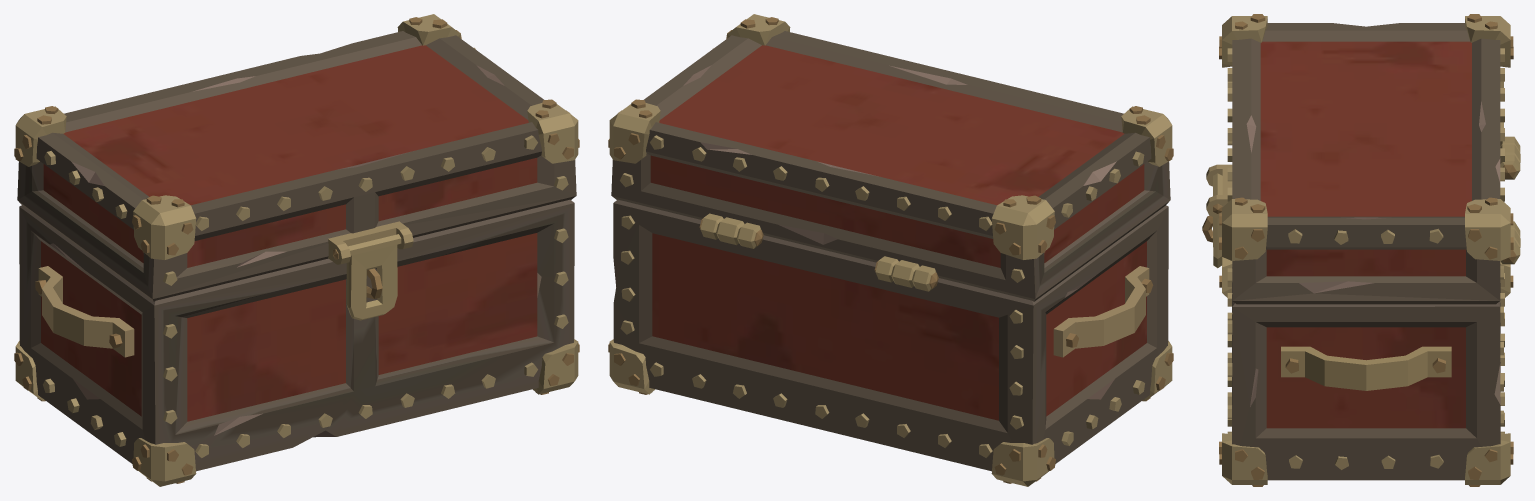
The model's file is crate-02.glb.
3 renders of one model, left to right at view 1: azimuth 30°, elevation 25°; view 2: azimuth 150°, elevation 25°; view 3: azimuth 270°, elevation 25°, orthographic.
Visible parts, largest first — view 1: SM_Prop_Trunk_02; view 2: SM_Prop_Trunk_02; view 3: SM_Prop_Trunk_02.
Part boxes in pixels (x1=…): SM_Prop_Trunk_02: x1=14, y1=14, x2=579, y2=486; SM_Prop_Trunk_02: x1=608, y1=14, x2=1173, y2=486; SM_Prop_Trunk_02: x1=1202, y1=14, x2=1520, y2=486.
Size of the model in its own units: 119 by 65.22 by 67.96.
1 material, 1 textured.
